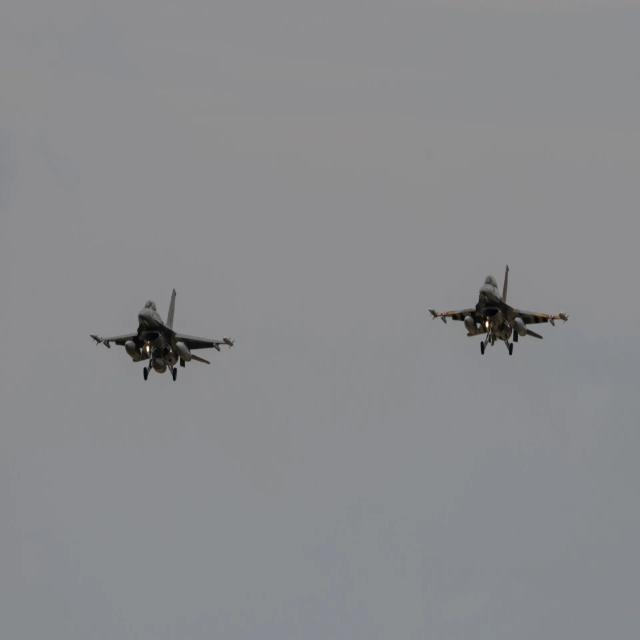MIL_Plane: (90, 288, 235, 381), (428, 270, 570, 348)
